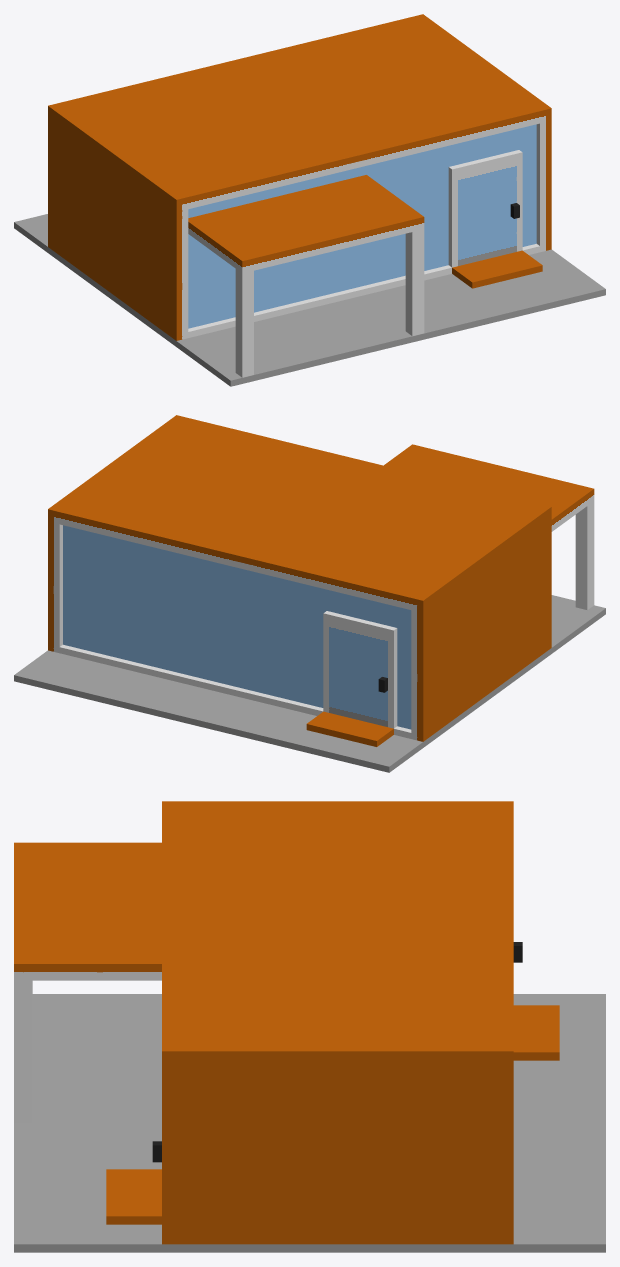
File: obj_house2b.fbx
3 renders of one model, top to bottom at view 1: azimuth 30°, elevation 25°; view 2: azimuth 150°, elevation 25°; view 3: azimuth 270°, elevation 25°, orthographic. The views are drawn at different scales.
Parts seen in each view (by area): view 1: obj_house2b; view 2: obj_house2b; view 3: obj_house2b.
Boxes of the visible parts, x1=… form: obj_house2b: x1=14, y1=14, x2=605, y2=386; obj_house2b: x1=14, y1=415, x2=605, y2=772; obj_house2b: x1=14, y1=801, x2=605, y2=1252.
Size of the model in its own units: 6.4 by 6.4 by 2.4.
1 material, 1 textured.
